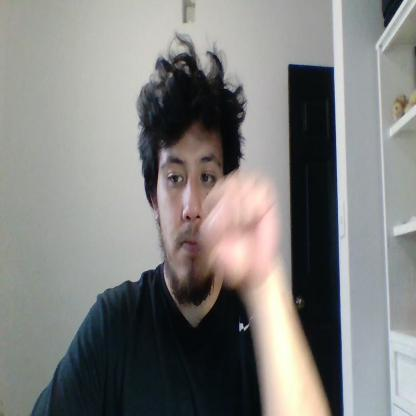S: (201, 172, 281, 283)
